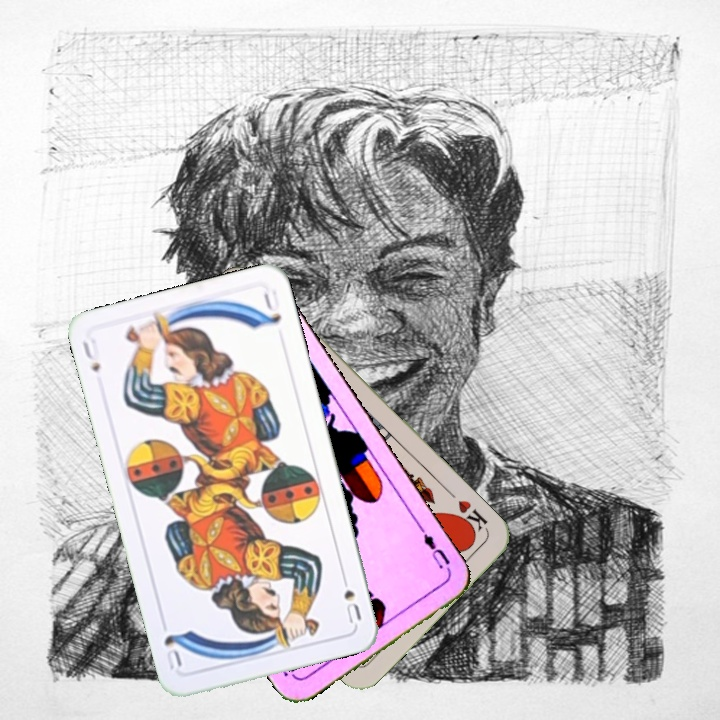EU: (415, 524, 453, 572)
HK: (448, 496, 492, 539)
SU: (337, 568, 364, 626), (78, 335, 103, 375)
